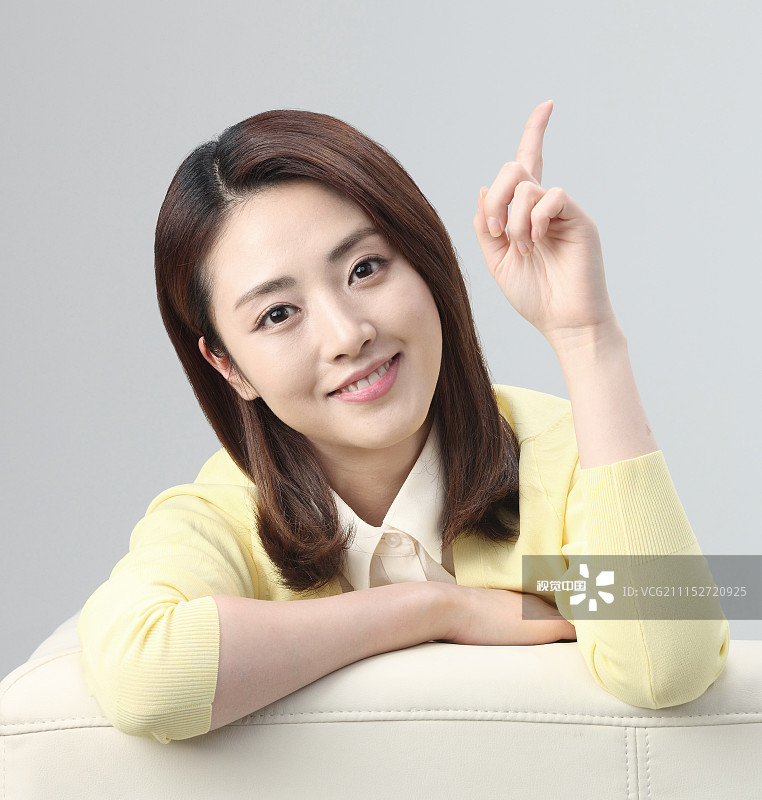no-phone: (456, 77, 651, 373)
